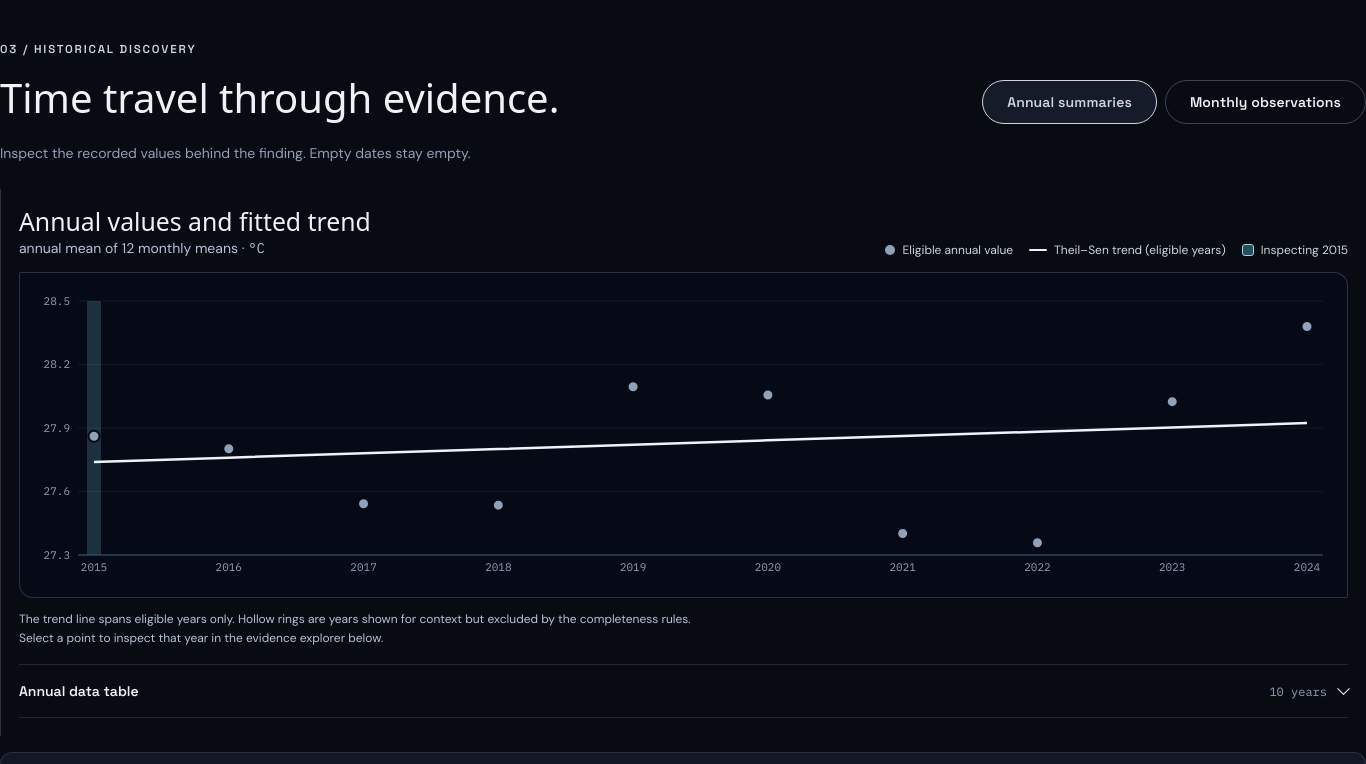
Test: Historical Discovery evidence › switches resolutions and inspects a missing date by keyboard-compatible slider
Click the button "Monthly observations": (1265, 102) top-left (1165, 80), bottom-right (1365, 124)
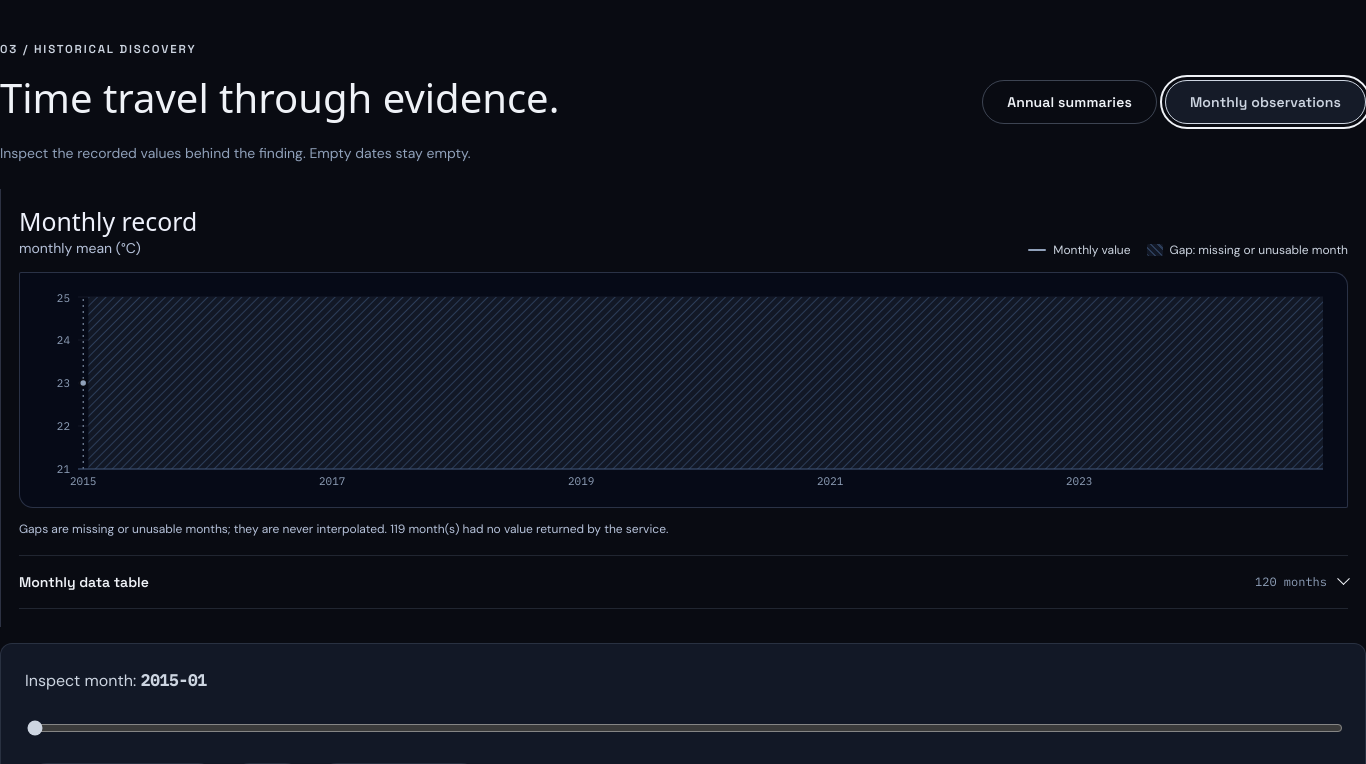
Set the slider to "1": (46, 728) top-left (27, 712), bottom-right (1343, 744)
(page scrolled)
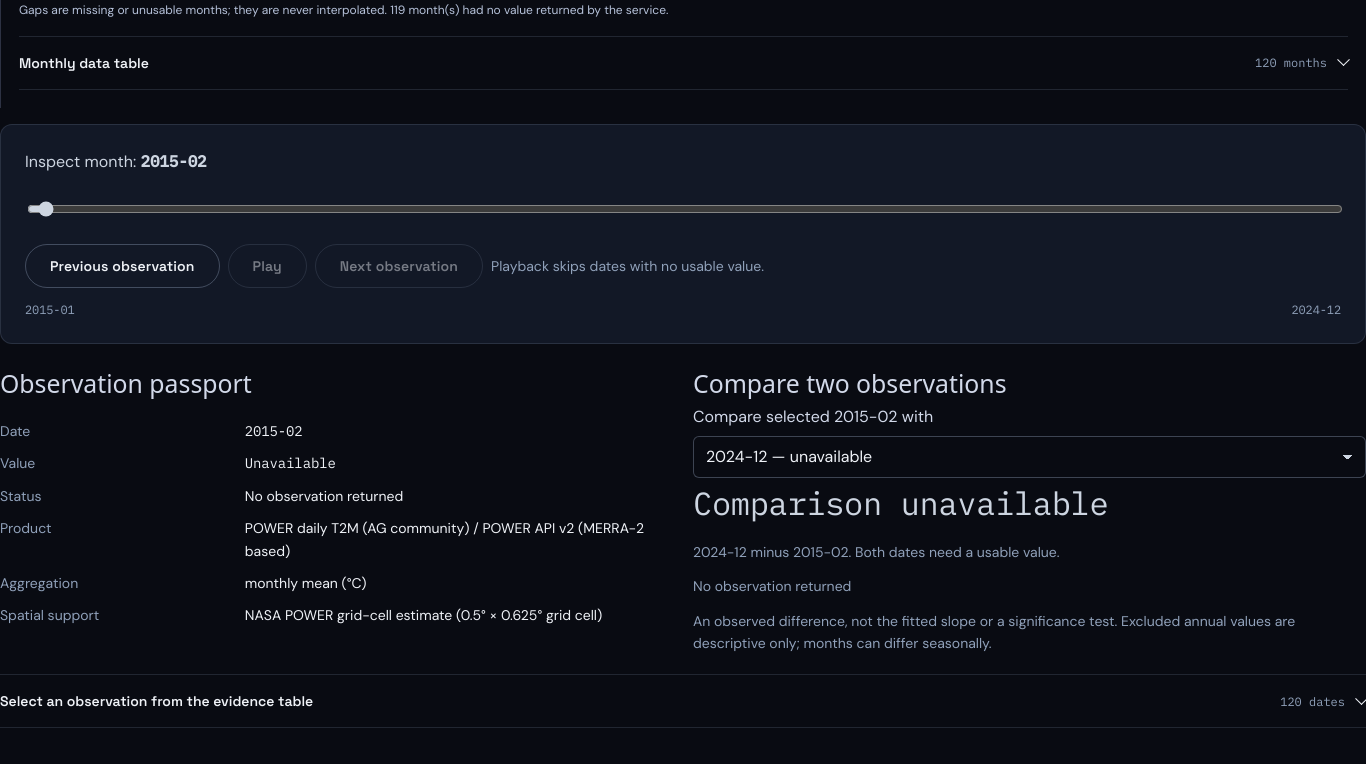
expect the text "Comparison unavailable" is shown: met, box top-left (693, 482), bottom-right (1108, 524)
expect the text "2015-02" below "Observation passport" is shown: met, box top-left (245, 422), bottom-right (303, 440)
expect the text "Unavailable" is shown: met, box top-left (245, 454), bottom-right (336, 472)
